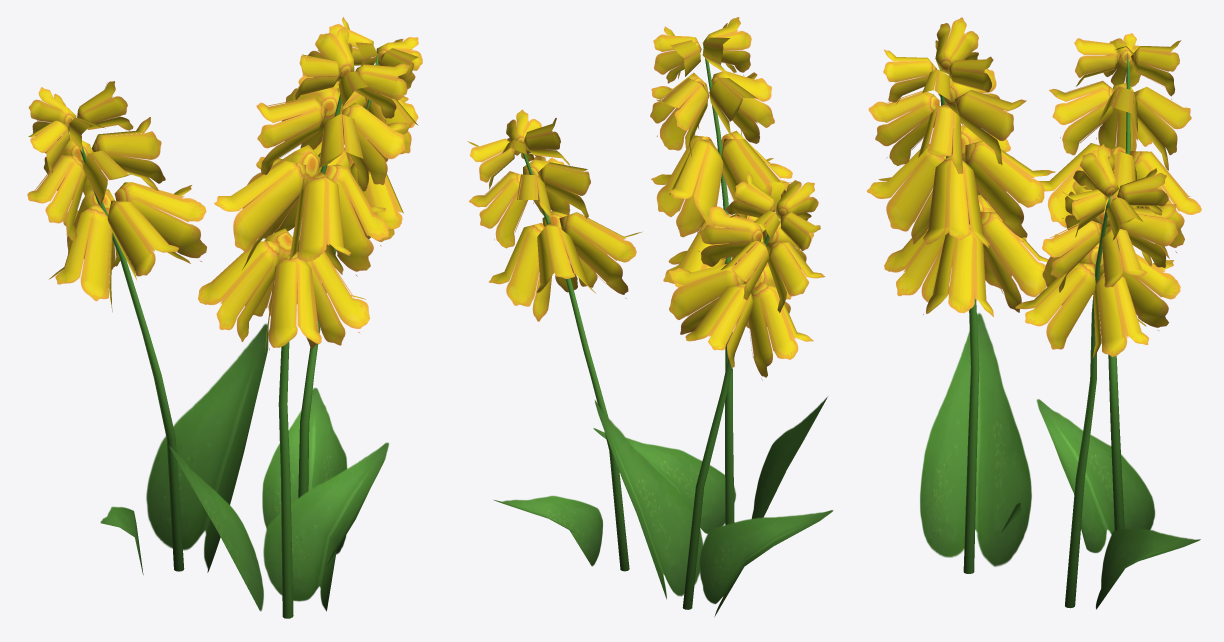
Rendered from flower-group-lqtljn6wg2-transformed.glb.
3 views of the same model, side by side, from view 1: azimuth 30°, elevation 25°; view 2: azimuth 150°, elevation 25°; view 3: azimuth 270°, elevation 25° (orthographic). The views are drawn at different scales.
Parts seen in each view (by area): view 1: Flower_4_Group; view 2: Flower_4_Group; view 3: Flower_4_Group.
Boxes of the visible parts, x1,y1,x2,y2 form: Flower_4_Group: [27, 17, 422, 618]; Flower_4_Group: [467, 17, 833, 616]; Flower_4_Group: [866, 17, 1201, 609].
Size of the model in its own units: 1.78 by 2.49 by 1.37.
2 materials, 2 textured.
